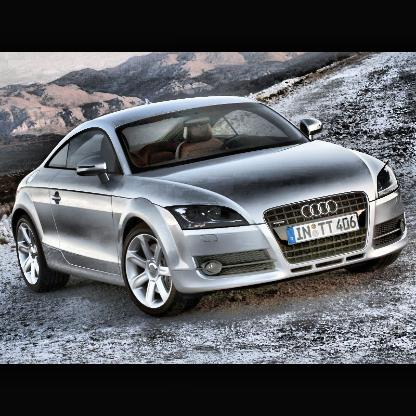Audi TT Hatchback 2011: (13, 98, 410, 321)
